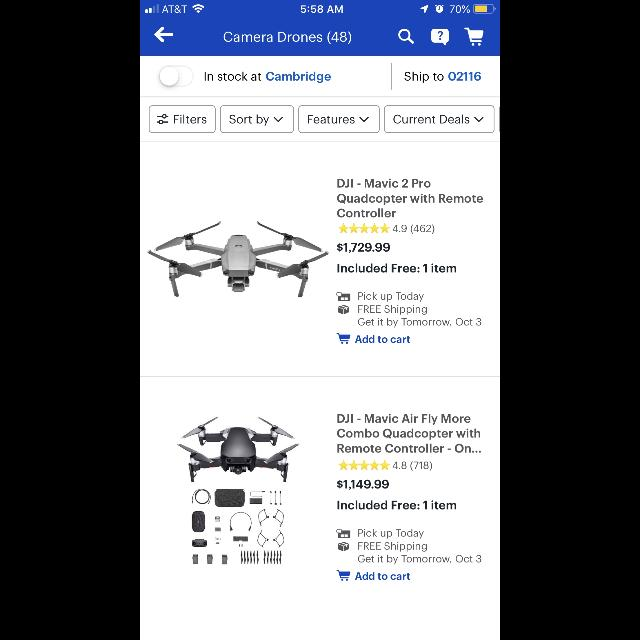icon: (338, 460, 389, 470), (338, 223, 389, 233), (464, 28, 484, 46), (154, 27, 173, 43), (432, 28, 448, 46), (398, 30, 414, 44), (336, 570, 350, 582), (337, 334, 351, 344), (274, 116, 282, 122), (474, 118, 484, 122), (359, 118, 368, 122)
image: (148, 220, 330, 298), (178, 416, 300, 482), (192, 489, 284, 565), (336, 529, 350, 537), (336, 293, 350, 301), (338, 542, 348, 552), (338, 304, 348, 314)
switch: (158, 65, 194, 87)
text: (337, 178, 483, 218), (337, 413, 481, 452), (358, 292, 482, 328), (358, 529, 482, 565), (224, 32, 352, 44), (205, 72, 331, 84), (338, 500, 457, 510), (338, 264, 457, 272), (405, 72, 481, 82), (336, 243, 389, 253), (337, 480, 389, 490), (356, 335, 410, 343), (356, 572, 410, 580), (393, 224, 435, 234), (393, 462, 432, 471)
textbutton: (384, 105, 494, 133), (298, 105, 379, 133), (220, 105, 294, 133), (148, 105, 216, 133)
uppertaskbar: (140, 0, 500, 14)
